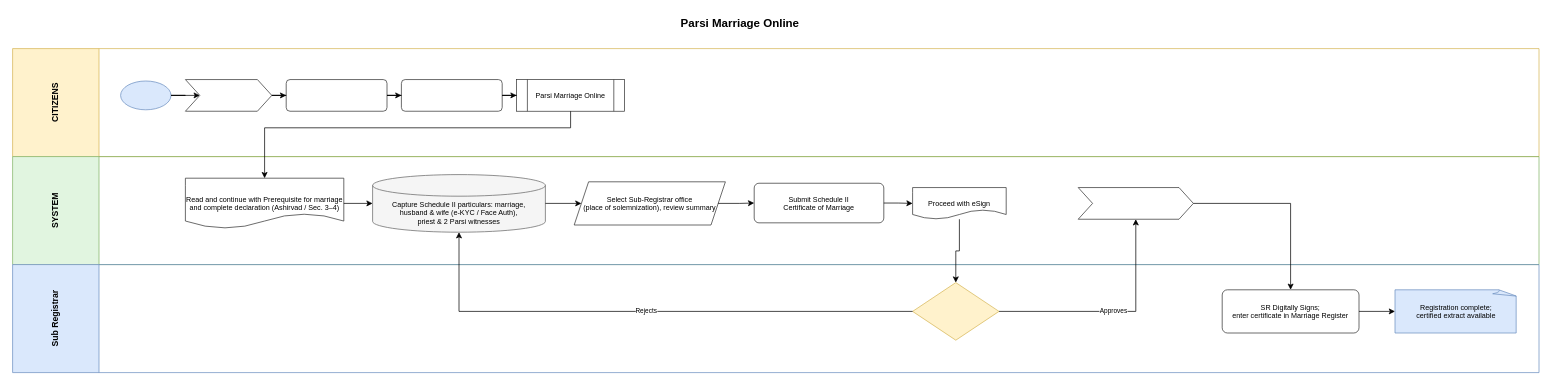
The diagram is 1552 pixels wide and 385 high, and some of its shapes have lost their labels. Here are the shapes that lost their labels. From the top down, the centre of each, then its label:
the point at 145,95: START
the point at 228,95: LogOn to Portal
the point at 336,95: Start a new Application
the point at 451,95: Marriage Registration
the point at 1135,203: Proceed for Online Payment
the point at 955,311: SR Verification
